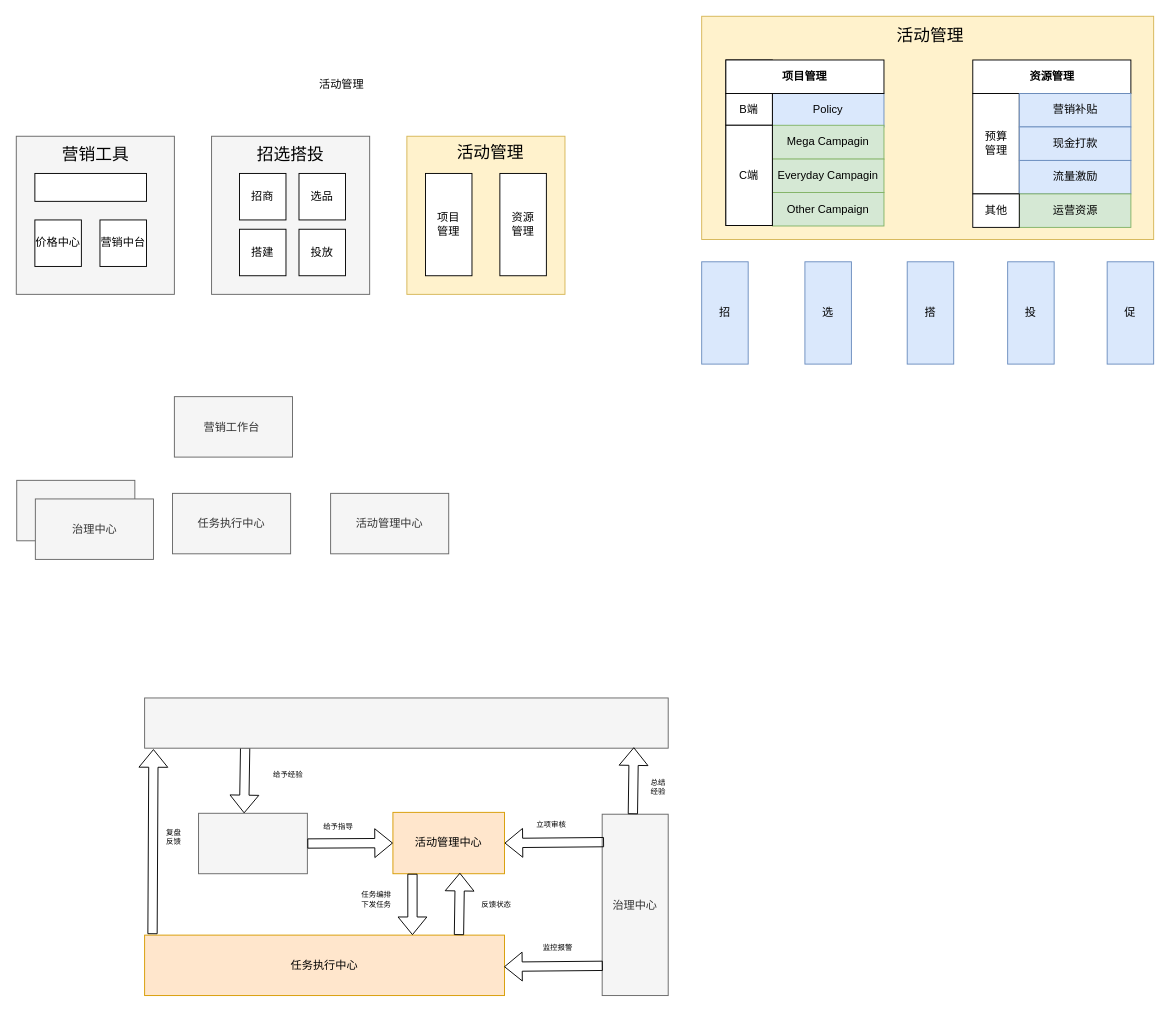
This 1170x1012 diagram has some shape labels left out. The shapes that lost their labels are listed below. From the top down, each one's centre as x and y in pixels, then its label:
At (x=90, y=187): "营销业务平台".
At (x=406, y=722): "数据中心".
At (x=252, y=843): "策略中心".
